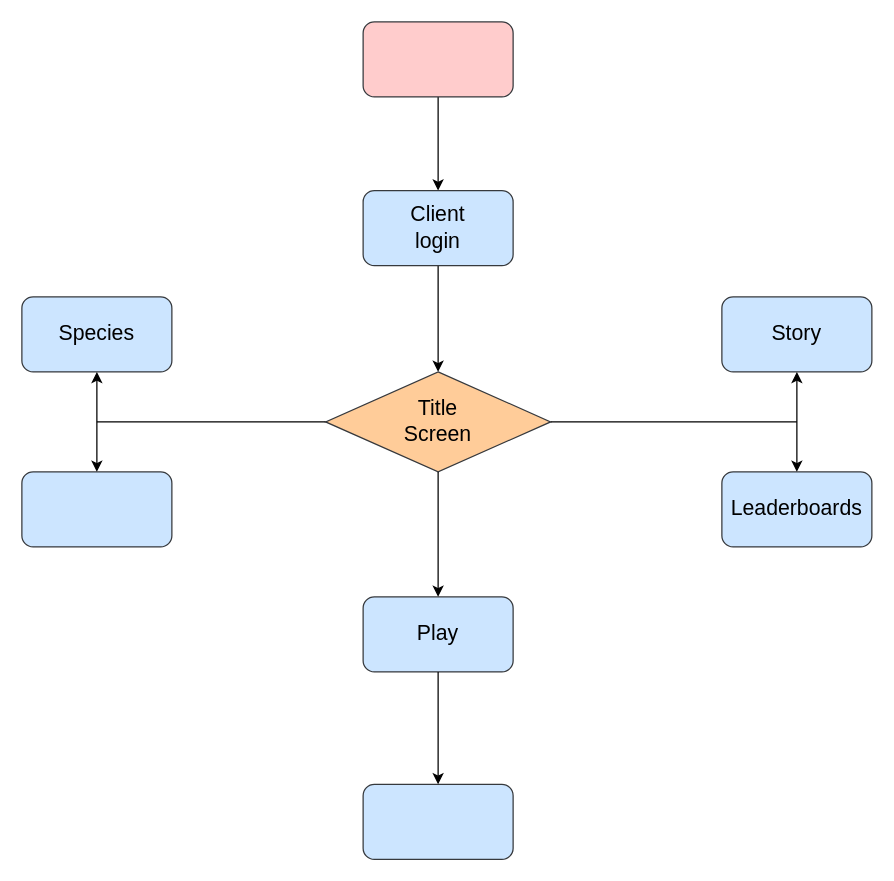
Image size: 894x881. Some labels were removed from this diagram. The shapes that lost their labels are listed below. From the top down, each one's centre as x and y in pixels, then its label:
point 437,59: Start
point 96,509: Settings
point 437,821: Match loop
